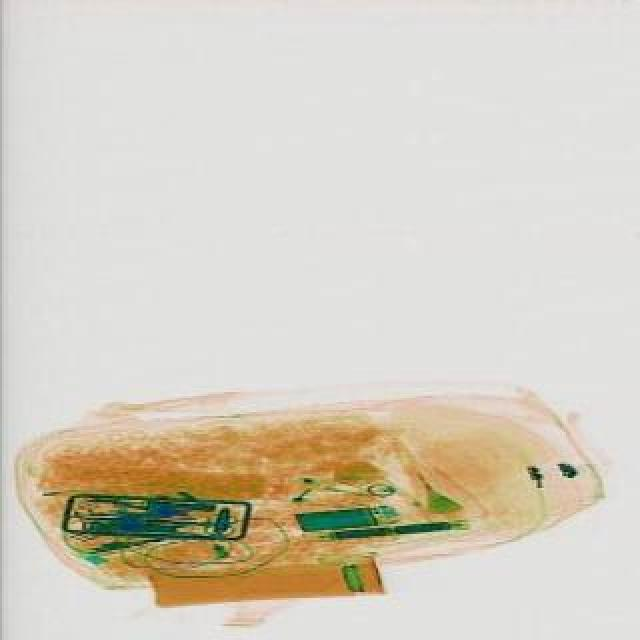pliers: (154, 508, 234, 536)
